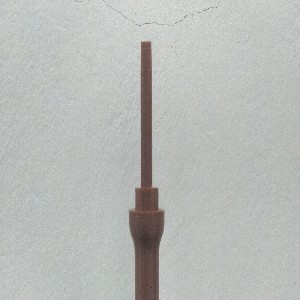obeng: (127, 39, 166, 300)
